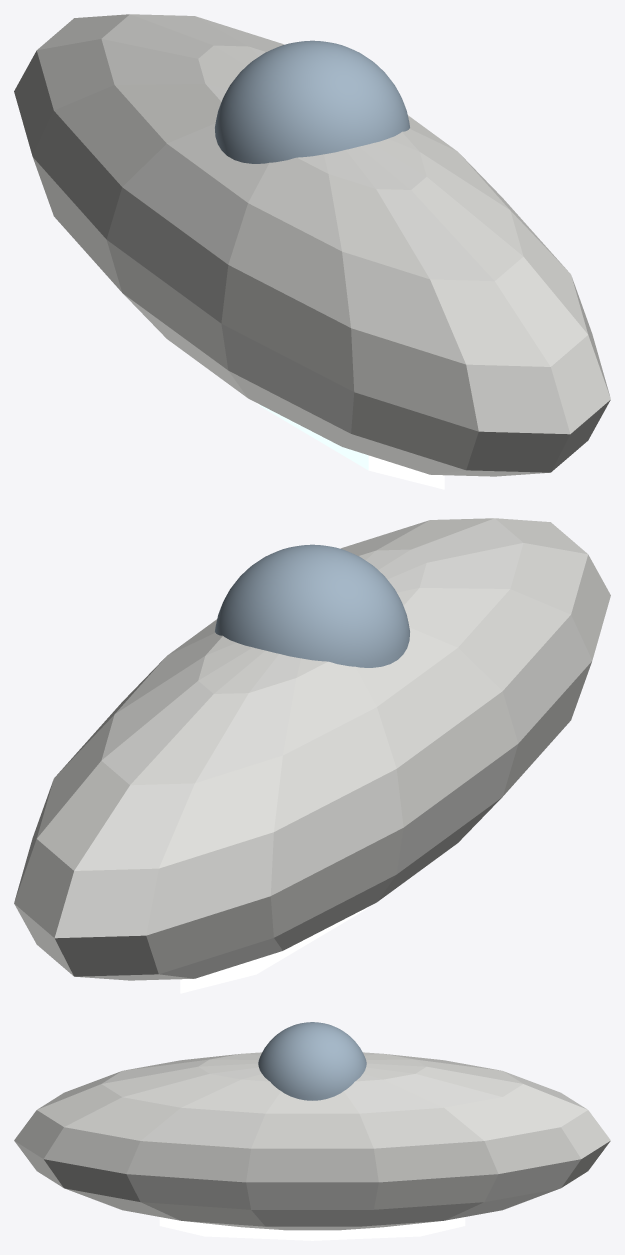
Rendered from tictac.glb.
3 renders of one model, top to bottom at view 1: azimuth 30°, elevation 25°; view 2: azimuth 150°, elevation 25°; view 3: azimuth 270°, elevation 25°, orthographic. The views are drawn at different scales.
Visible parts, largest first — view 1: tictac, dome.006; view 2: tictac, dome.006; view 3: tictac, dome.006.
Part boxes in pixels (box(x1,y1,x2,y2)): tictac: box(14, 14, 610, 489); dome.006: box(215, 40, 409, 163); tictac: box(14, 518, 610, 993); dome.006: box(215, 544, 409, 667); tictac: box(14, 1052, 610, 1240); dome.006: box(258, 1022, 366, 1100).
Size of the model in its own units: 1.46 by 1.69 by 4.4.
